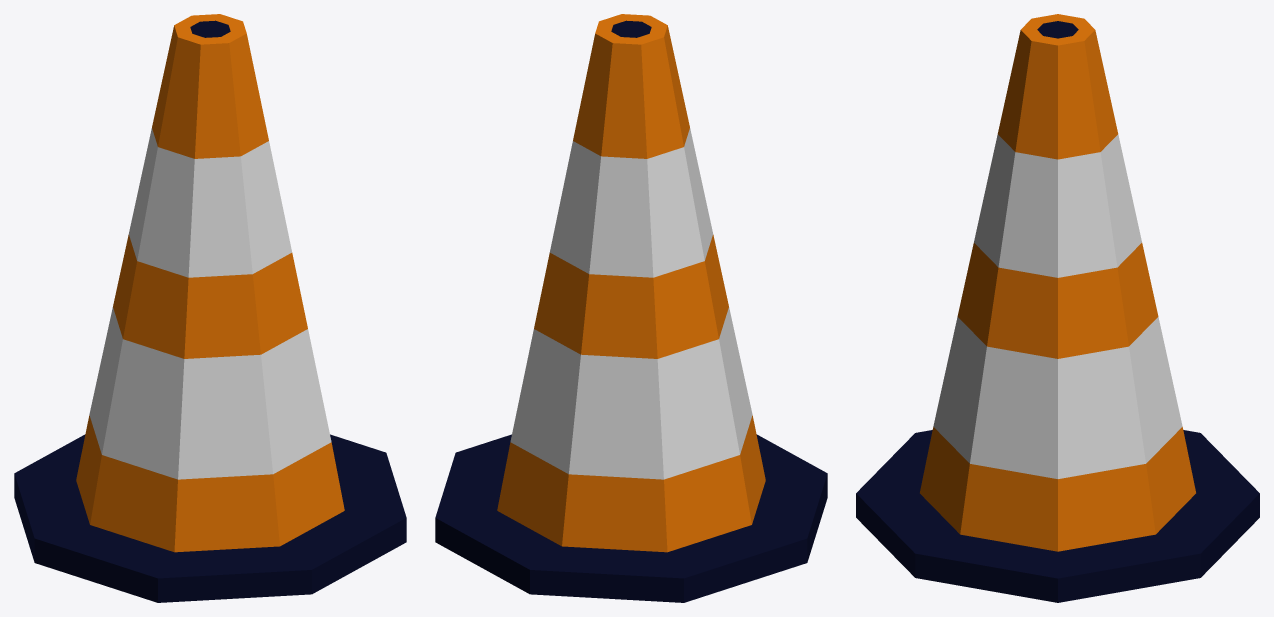
The model's file is circle_means_orange.glb.
3 views of the same model, side by side, from view 1: azimuth 30°, elevation 25°; view 2: azimuth 150°, elevation 25°; view 3: azimuth 270°, elevation 25° (orthographic).
Parts seen in each view (by area): view 1: Cylinder.001; view 2: Cylinder.001; view 3: Cylinder.001.
Part boxes in pixels (box(x1,y1,x2,y2)): Cylinder.001: box(14, 14, 406, 602); Cylinder.001: box(435, 14, 827, 602); Cylinder.001: box(856, 14, 1259, 602).
Size of the model in its own units: 0.75 by 1 by 0.75.
